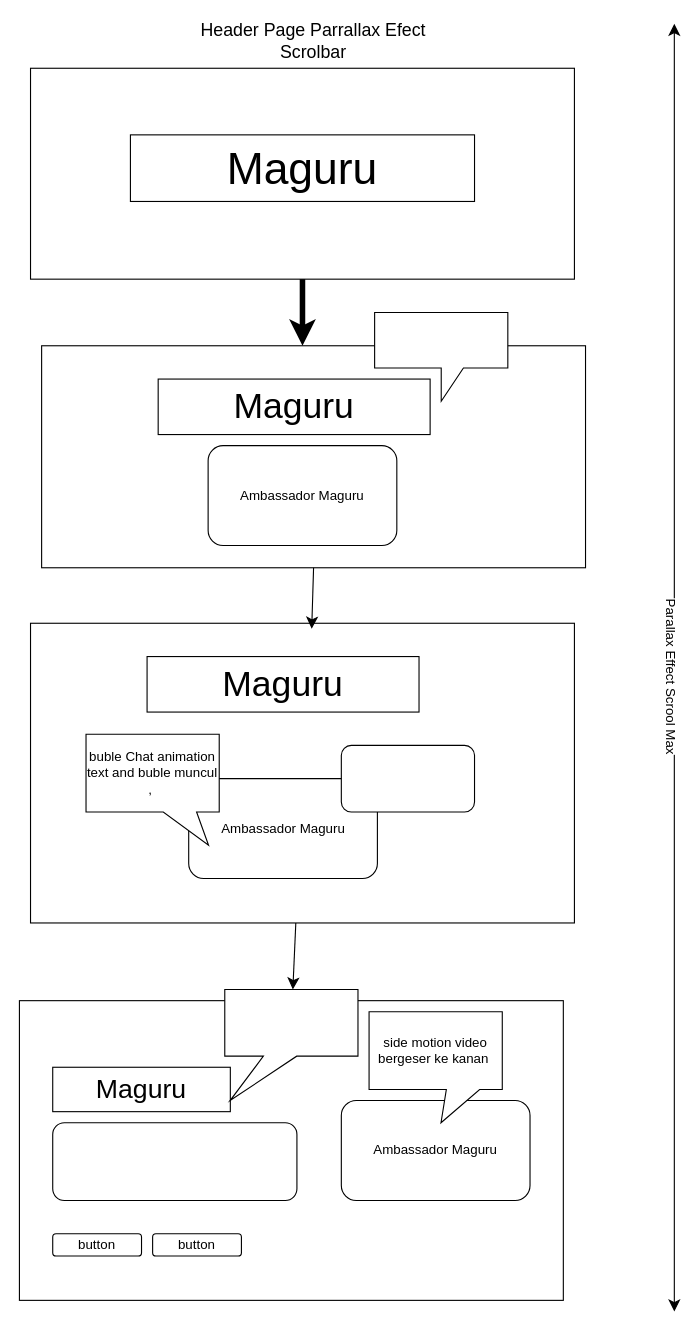
Some shapes in this 699 by 1330 pixel diagram are drawn without their labels. Here are the shapes that lost their labels. From the top down, the box of each, then its label:
(374, 311, 508, 401): Text Header Maguru Mengecil 75%
(340, 744, 475, 812): halo smeuanya , selamat datang di Maguru
(224, 988, 358, 1101): maguru bergeser ke kiri sub section text hero section
(52, 1122, 297, 1200): Text deksripsi maguru
